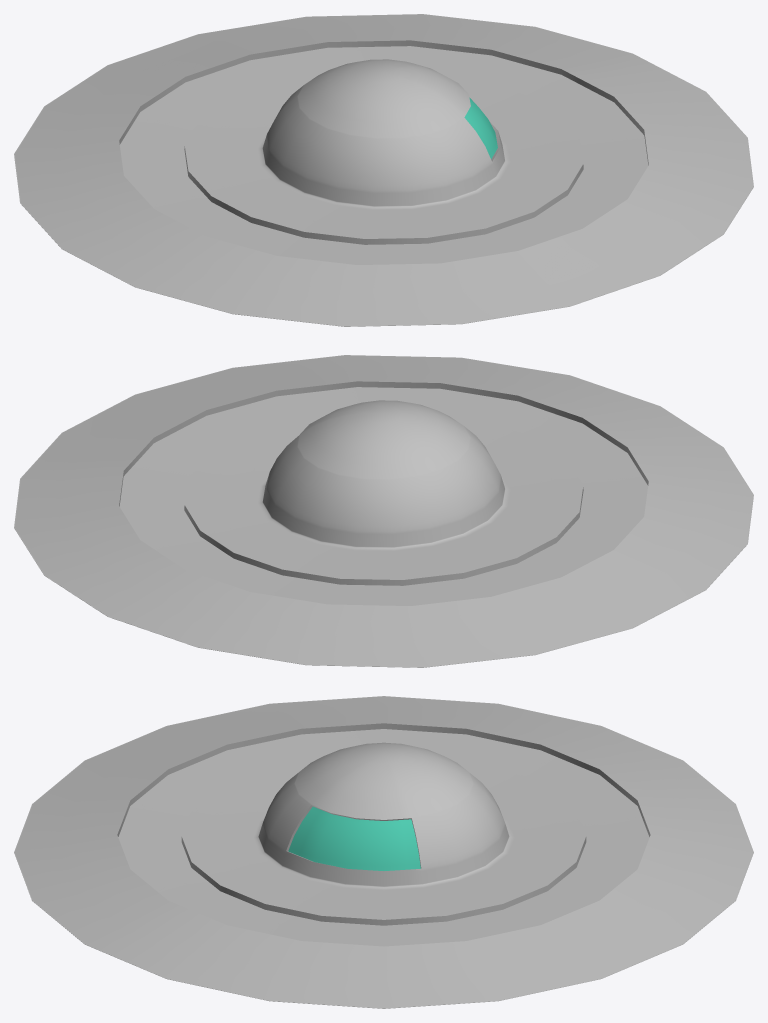
Rendered from ufo2.fbx.
3 views of the same model, one above another, from view 1: azimuth 30°, elevation 25°; view 2: azimuth 150°, elevation 25°; view 3: azimuth 270°, elevation 25° (orthographic).
Visible parts, largest first — view 1: polySurface7; view 2: polySurface7; view 3: polySurface7.
Boxes of the visible parts, x1,y1,x2,y2 form: polySurface7: (14,14,753,326); polySurface7: (14,355,753,667); polySurface7: (14,696,753,1008).
Size of the model in its own units: 4.27 by 1.4 by 4.27.
